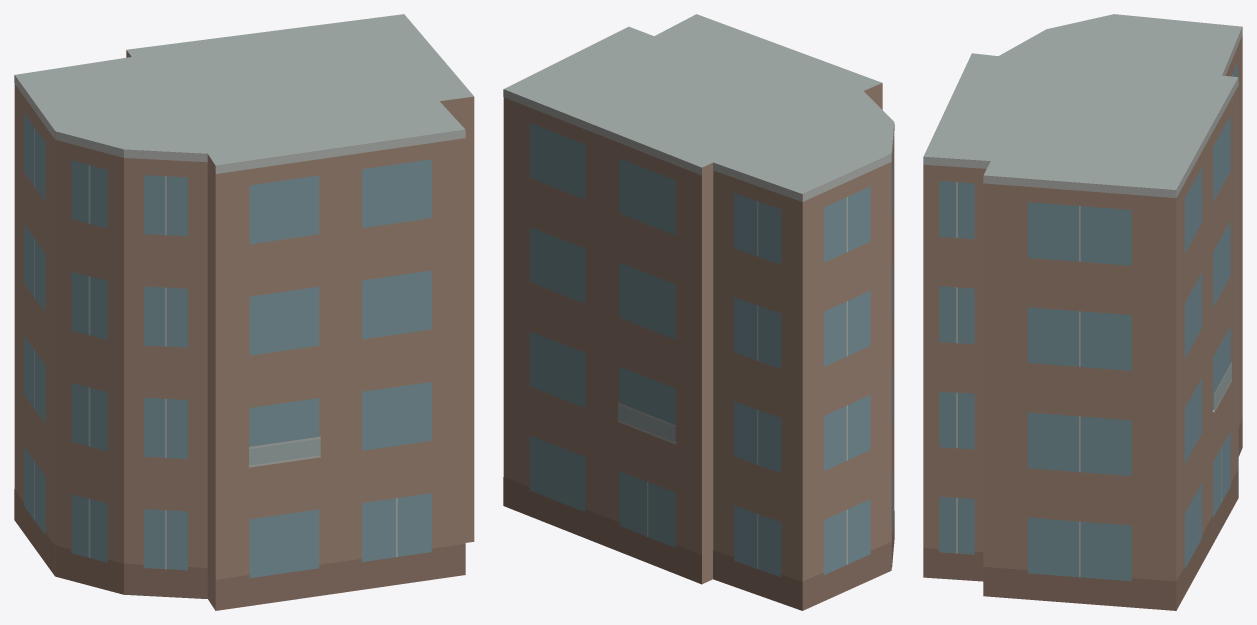
The model's file is survey-upis-32509075.glb.
3 views of the same model, side by side, from view 1: azimuth 30°, elevation 25°; view 2: azimuth 150°, elevation 25°; view 3: azimuth 270°, elevation 25° (orthographic). The views are drawn at different scales.
Visible parts, largest first — view 1: survey-upis-32509075.tmp; view 2: survey-upis-32509075.tmp; view 3: survey-upis-32509075.tmp.
Part boxes in pixels (<box>): survey-upis-32509075.tmp: <box>14,14,474,610</box>; survey-upis-32509075.tmp: <box>503,14,894,610</box>; survey-upis-32509075.tmp: <box>923,14,1242,610</box>.
Bounding box in the file's own units: 11.5 × 12.8 × 8.81.
